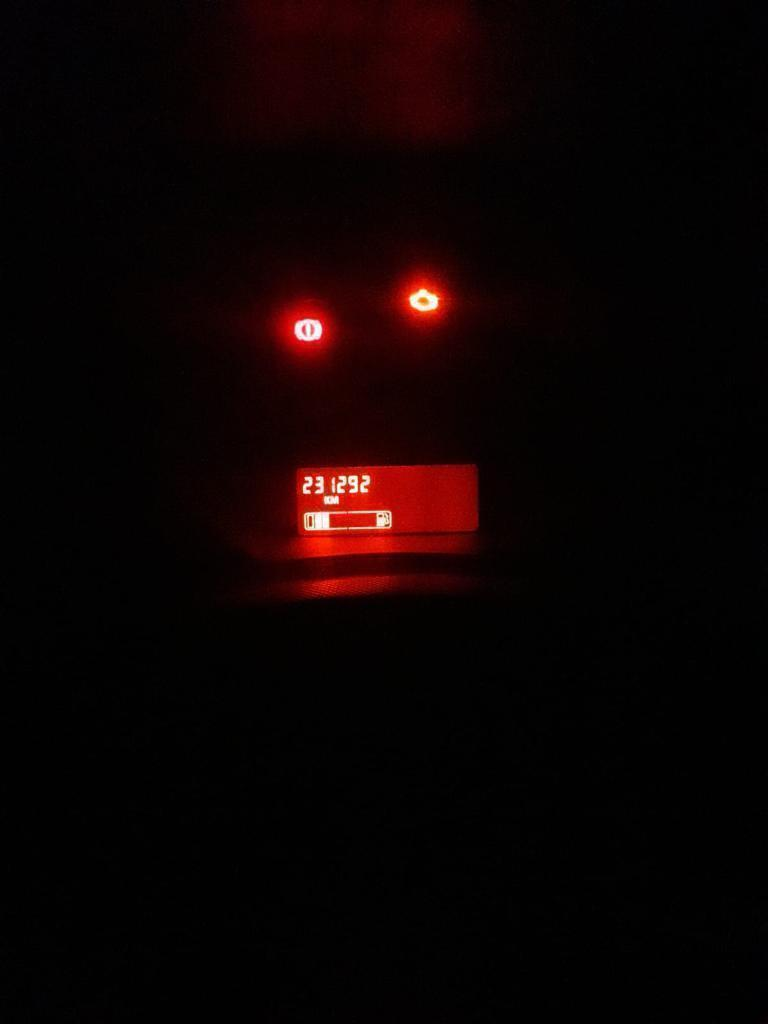1: (330, 475, 335, 494)
2: (359, 473, 370, 493), (302, 475, 312, 495), (336, 475, 346, 493)
3: (314, 475, 323, 494)
9: (347, 474, 358, 493)
X: (330, 494, 339, 504), (323, 494, 330, 504)
odometer: (290, 459, 485, 540)
